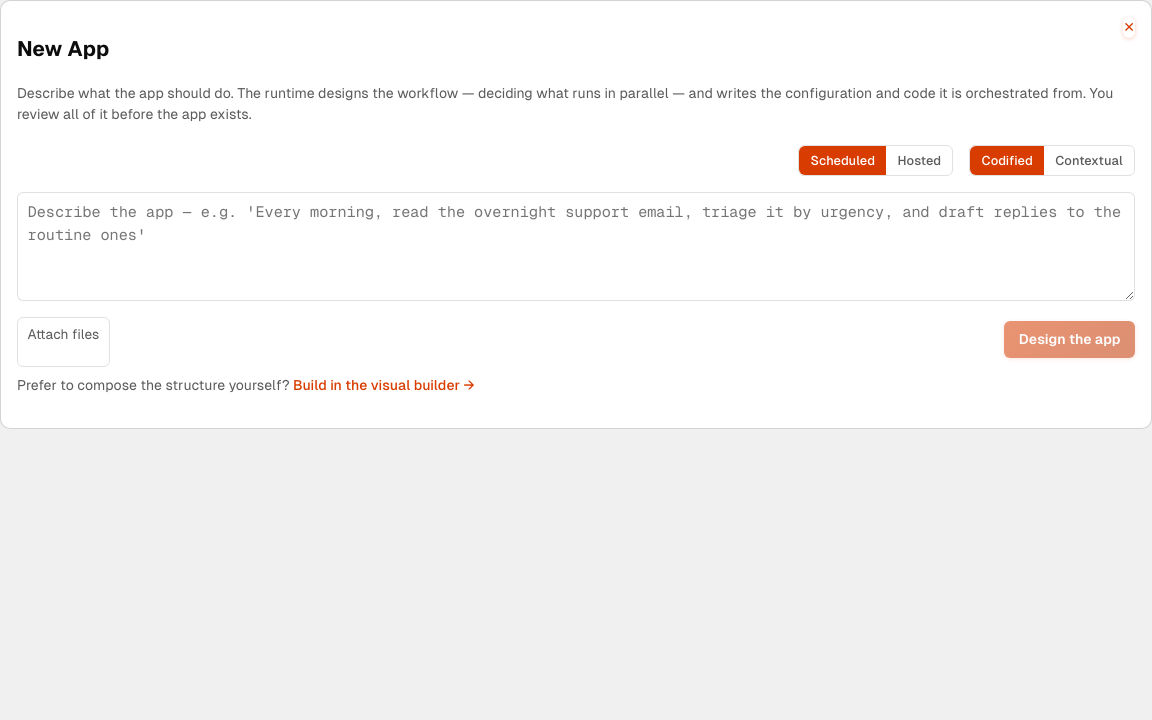
it: the chat surface derives before it creates › creates NOTHING until the design is approved
Replace the text in the 1st text box with test id "new-app-prompt" with "summarize the changelog" at (576, 247), box [17,192,1135,301]
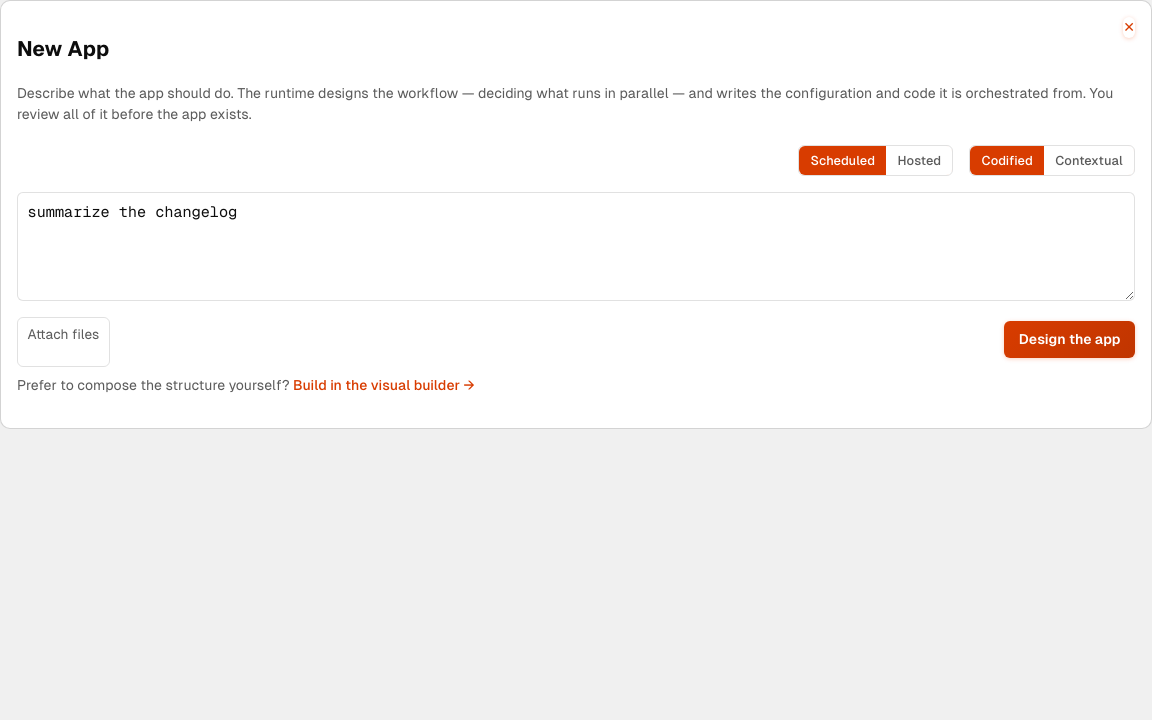
Click the button with test id "new-app-derive" at (1070, 340), box [1004,321,1135,358]
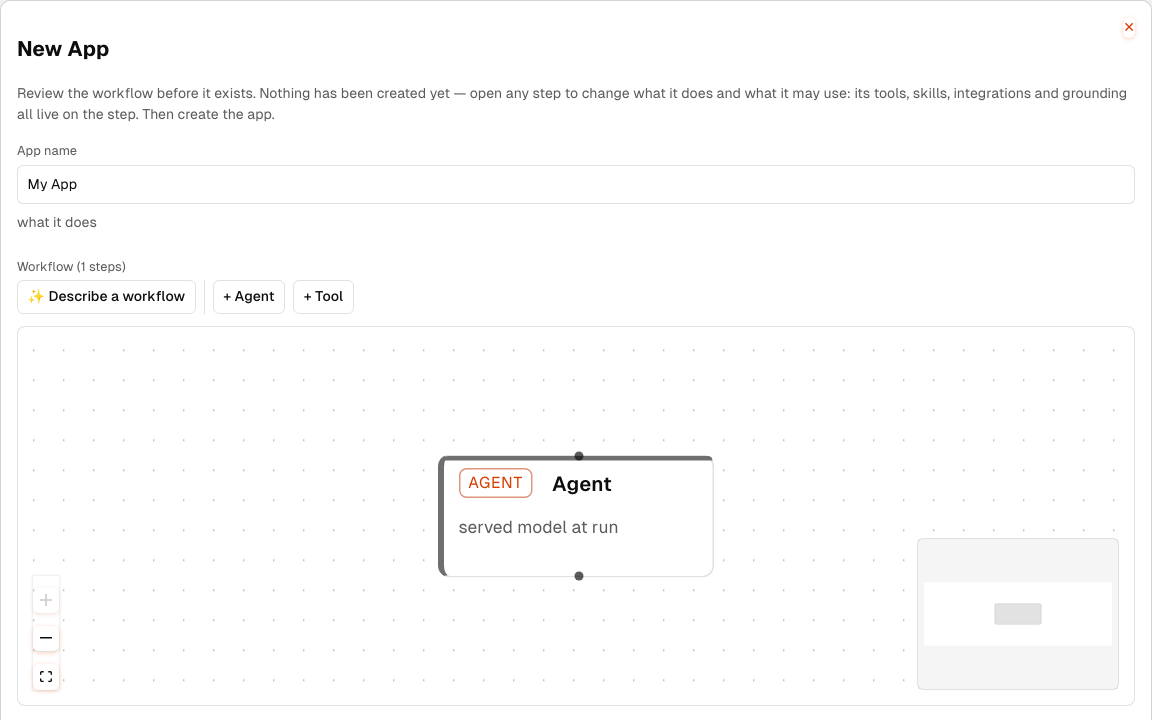
Check: the field with test id "new-app-name" holds "My App", box [17,164,1135,204]
